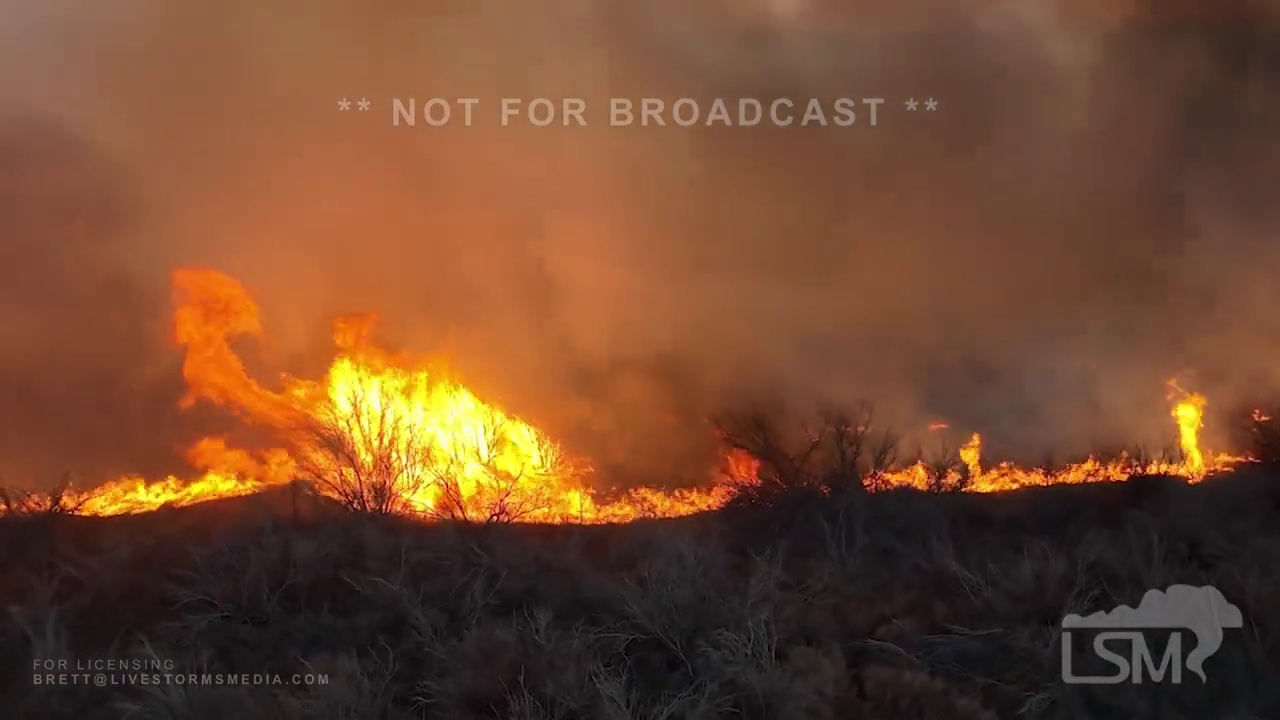forest_fire: (61, 267, 759, 522), (871, 382, 1242, 490)
